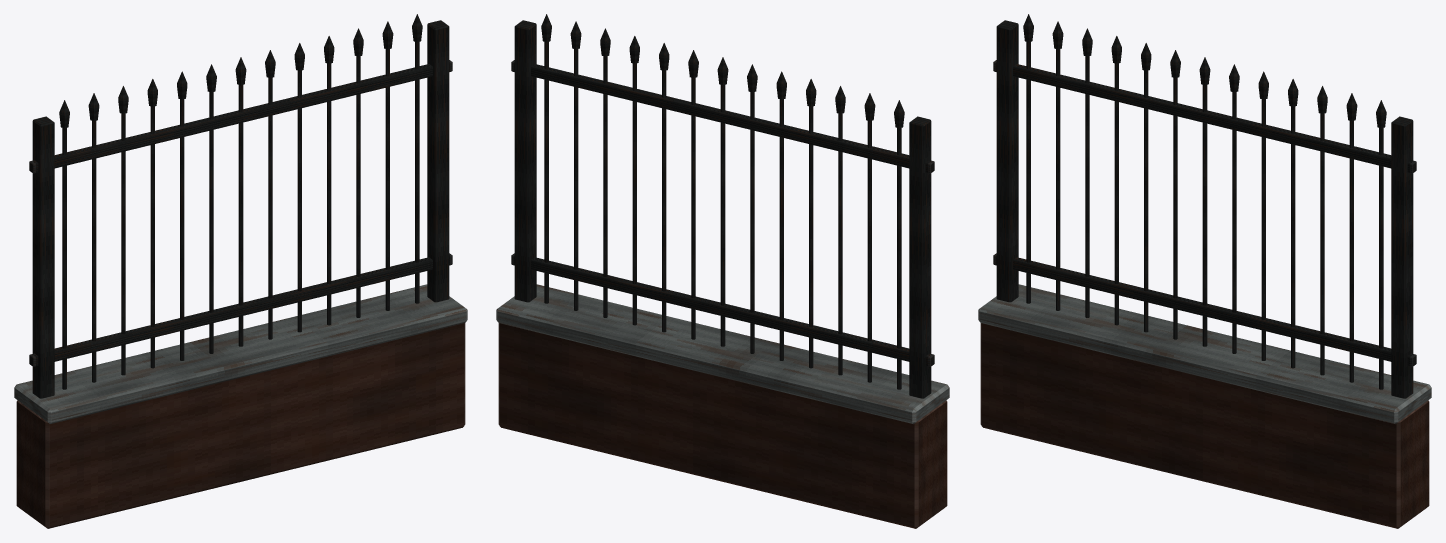
Rendered from level_enclosure_urban_worn.glb.
3 renders of one model, left to right at view 1: azimuth 30°, elevation 25°; view 2: azimuth 150°, elevation 25°; view 3: azimuth 330°, elevation 25°, orthographic.
Visible parts, largest first — view 1: level_enclosure_urban_worn; view 2: level_enclosure_urban_worn; view 3: level_enclosure_urban_worn.
Part boxes in pixels (box(x1,y1,x2,y2)): level_enclosure_urban_worn: box(14, 14, 467, 528); level_enclosure_urban_worn: box(496, 14, 949, 528); level_enclosure_urban_worn: box(978, 14, 1431, 528).
Bounding box in the file's own units: 2 × 1.87 × 0.3.
Materials: 3 (3 with a texture image).
